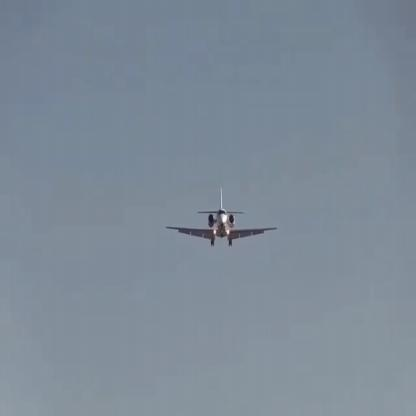CIV_Plane: (165, 187, 278, 248)
